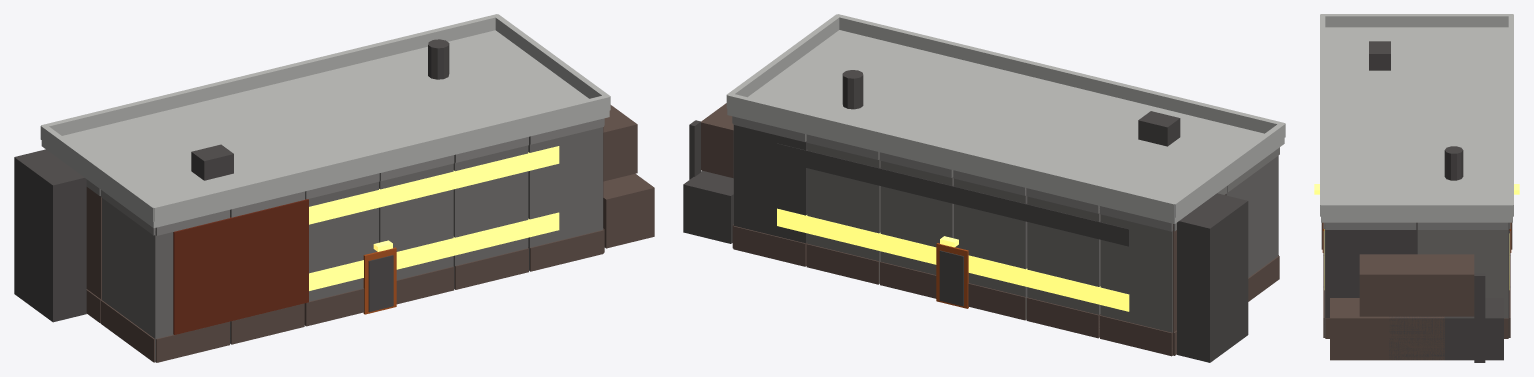
The model's file is B_dorm.glb.
The picture shows the model from 3 angles, left to right: view 1: azimuth 30°, elevation 25°; view 2: azimuth 150°, elevation 25°; view 3: azimuth 270°, elevation 25°; orthographic projection. The views are drawn at different scales.
Visible parts, largest first — view 1: Cube.066, Cube.048, Cube.061, Cube.067, Cube.068, Cube.015, Cube.036, Cube.012, Cube.009, Cube.059, Cube.006, Cube.057 (+23 smaller); view 2: Cube.066, Cube.061, Cube.068, Cube.067, Cube.033, Cube.018, Cube.060, Cube.058, Cube.030, Cube.021, Cube.024, Cube.027 (+23 smaller); view 3: Cube.066, Cube.064, Cube.062, Cube.063, Cube.042, Cube.045, Cube.070, Cube.069, Cube.067, Cube.068, Cube.065, Cube.044 (+5 smaller).
Boxes of the visible parts, <box> form: Cube.066: <box>41,30,609,227</box>; Cube.048: <box>173,199,308,334</box>; Cube.061: <box>14,149,86,322</box>; Cube.067: <box>151,94,610,221</box>; Cube.068: <box>41,14,499,135</box>; Cube.015: <box>528,127,602,270</box>; Cube.036: <box>102,198,155,362</box>; Cube.012: <box>453,145,528,288</box>; Cube.009: <box>379,163,453,280</box>; Cube.059: <box>309,146,559,224</box>; Cube.006: <box>305,182,378,301</box>; Cube.057: <box>309,212,559,290</box>; Cube.066: <box>727,30,1284,223</box>; Cube.061: <box>1177,193,1248,362</box>; Cube.068: <box>727,93,1175,217</box>; Cube.067: <box>835,14,1285,133</box>; Cube.033: <box>734,125,807,243</box>; Cube.018: <box>1100,214,1172,332</box>; Cube.060: <box>777,143,1129,246</box>; Cube.058: <box>777,208,1129,311</box>; Cube.030: <box>807,143,880,283</box>; Cube.021: <box>1027,196,1100,332</box>; Cube.024: <box>954,178,1027,319</box>; Cube.027: <box>880,161,953,274</box>; Cube.066: <box>1321,27,1512,222</box>; Cube.064: <box>1359,254,1474,316</box>; Cube.062: <box>1330,298,1444,360</box>; Cube.063: <box>1389,298,1503,360</box>; Cube.042: <box>1325,230,1416,318</box>; Cube.045: <box>1417,230,1508,318</box>; Cube.070: <box>1321,203,1512,217</box>; Cube.069: <box>1321,14,1512,27</box>; Cube.067: <box>1320,14,1325,216</box>; Cube.068: <box>1508,14,1513,216</box>; Cube.065: <box>1474,273,1485,362</box>; Cube.044: <box>1325,222,1416,229</box>.
Bounding box in the file's own units: 29.05 × 9.1 × 11.1.
